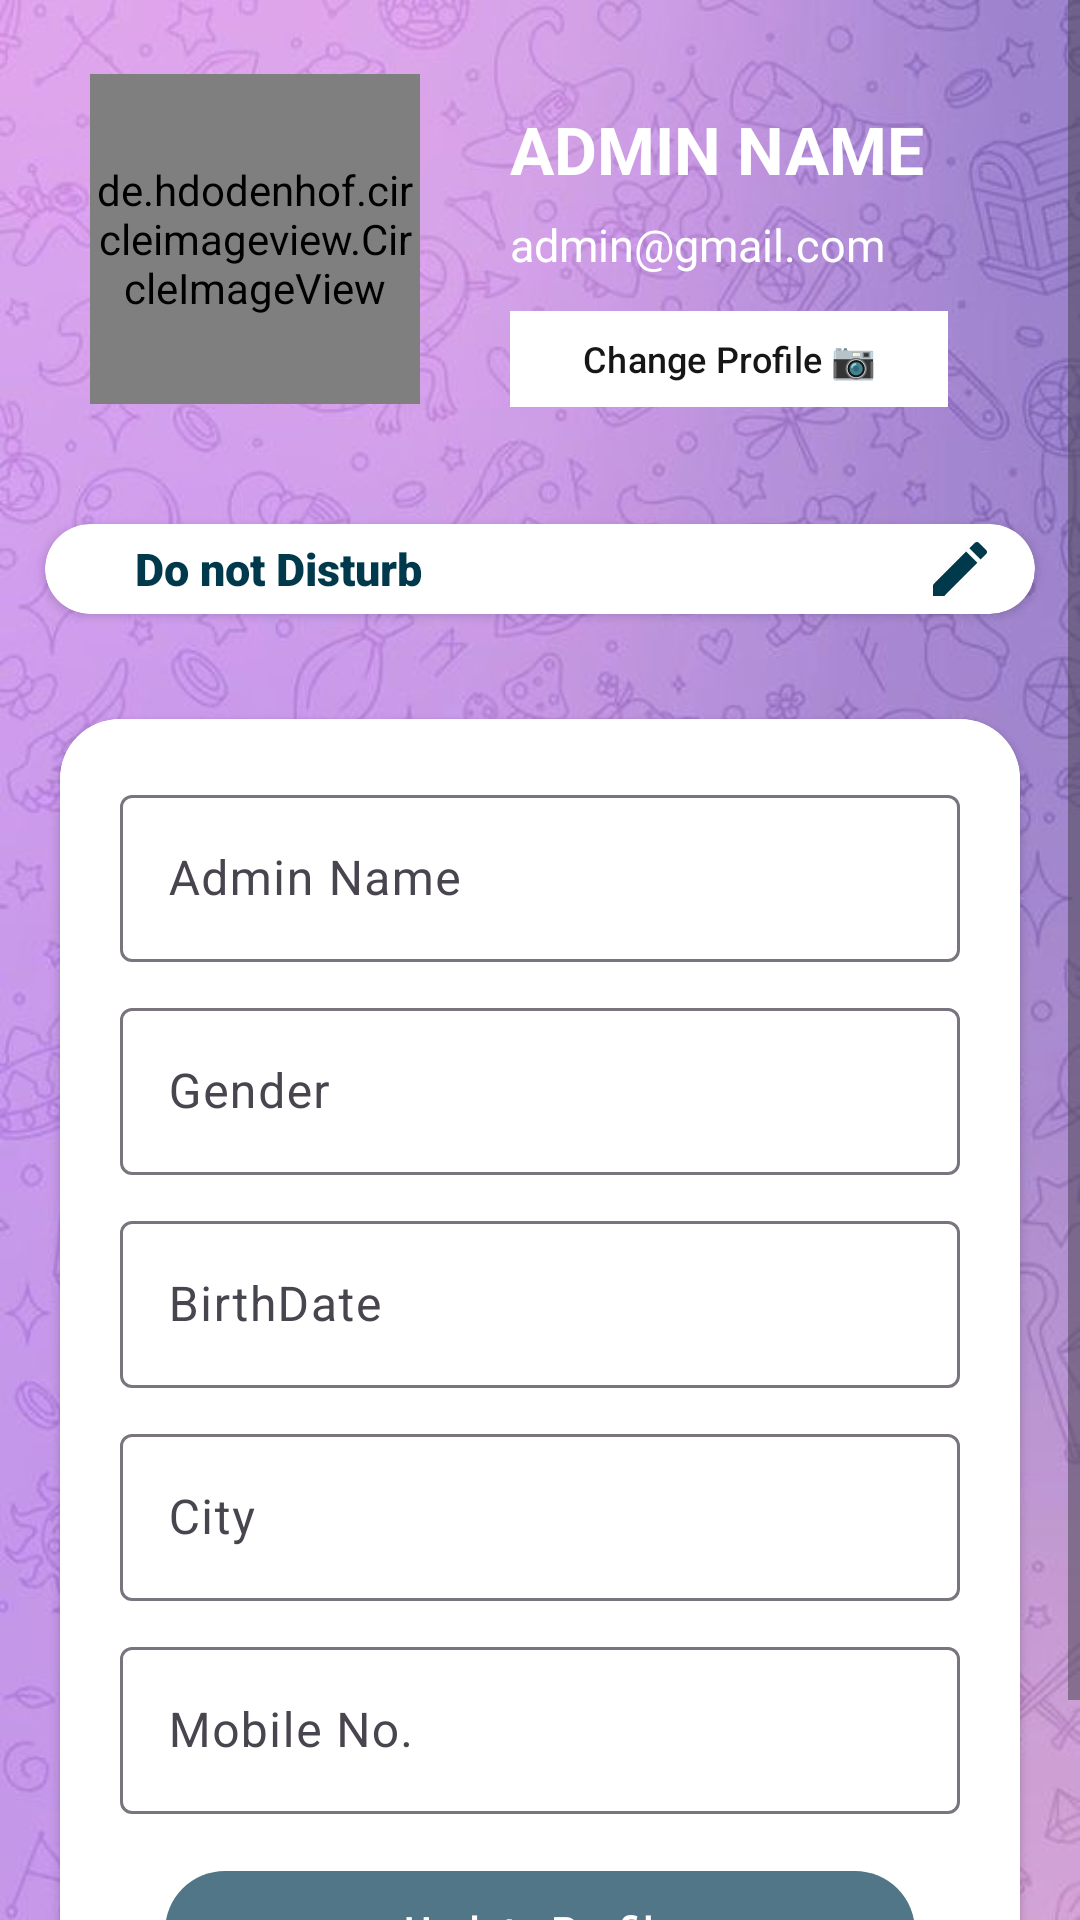

Named icons in this screenshot (1080px x 1920px) and their bounding boxes, bbox=(x1, y1, x2, y2):
create: bbox=(933, 542, 987, 596)
